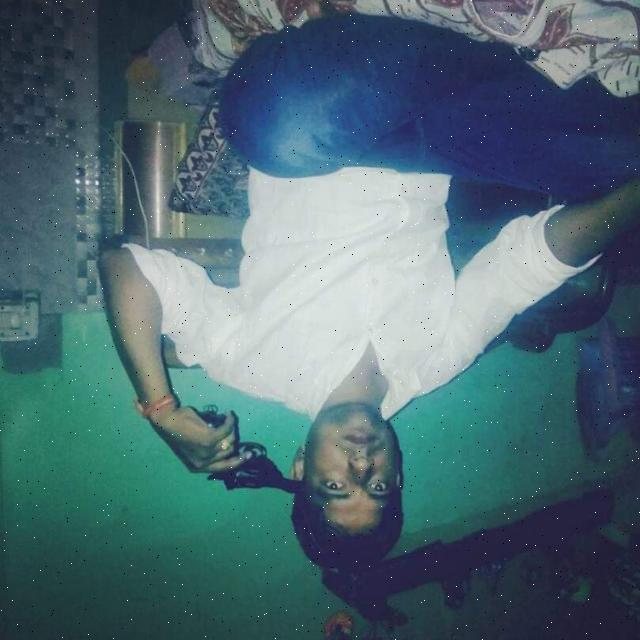gun: (185, 412, 316, 504)
